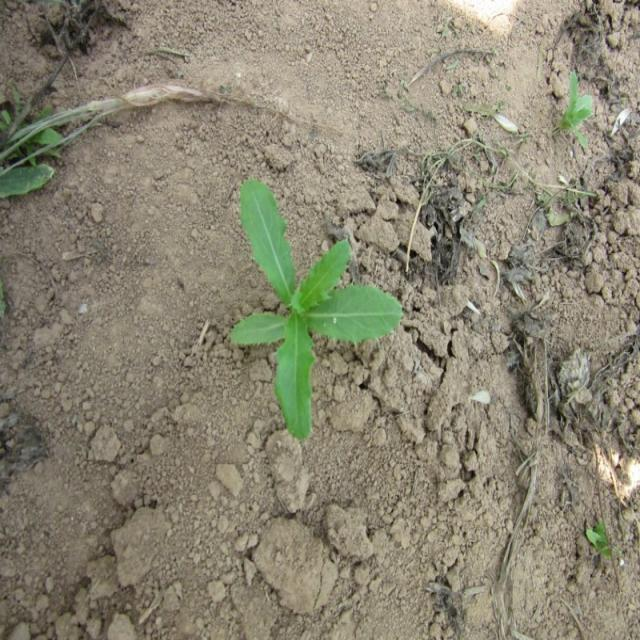cs: (226, 171, 405, 442)
